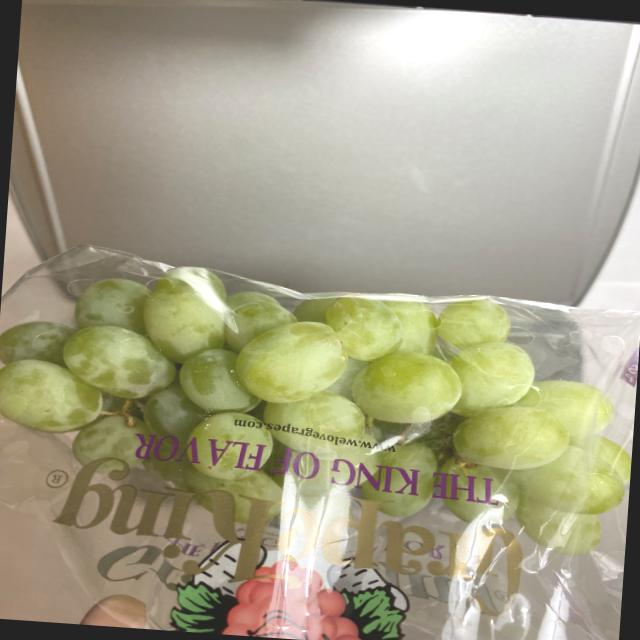grapes: (0, 243, 640, 550)
